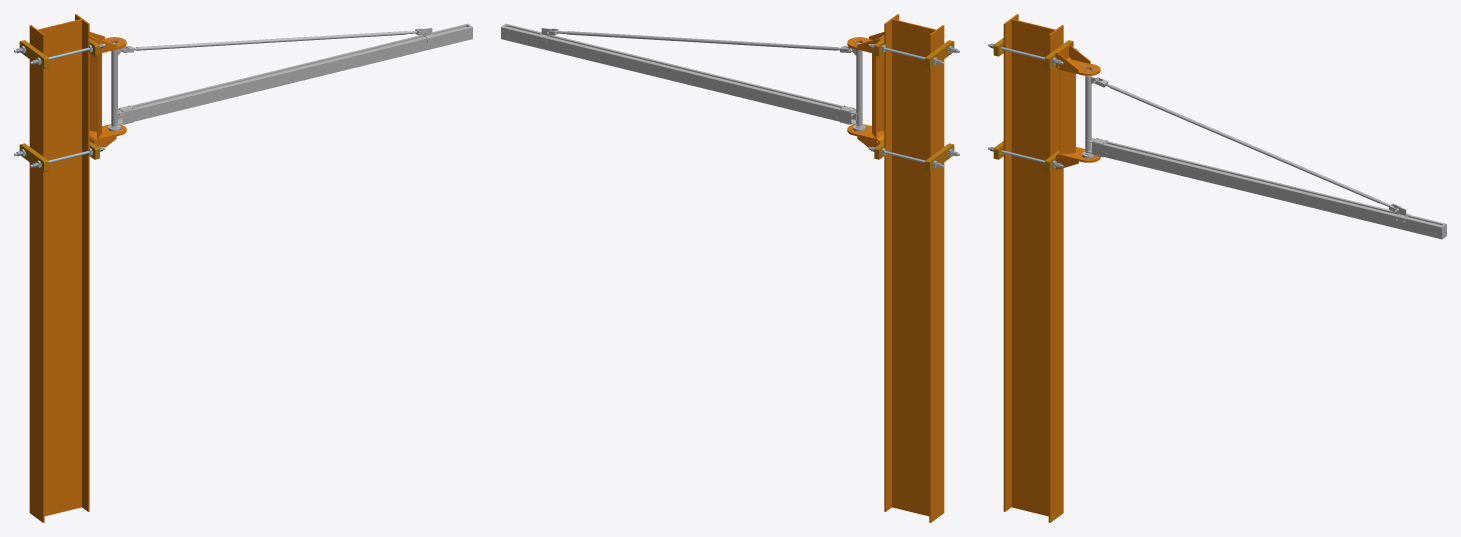
The model's file is aardwolf_all_part_WALL BRACED JIB CRANE 3M 125KG.fbx.
3 renders of one model, left to right at view 1: azimuth 30°, elevation 25°; view 2: azimuth 150°, elevation 25°; view 3: azimuth 330°, elevation 25°, orthographic.
Visible parts, largest first — view 1: Solid20, Solid39, Solid42, Solid1, Solid35; view 2: Solid20, Solid39, Solid42, Solid1, Solid35; view 3: Solid20 (×2), Solid39, Solid1, Solid42, Solid35.
Part boxes in pixels (x1,y1,x2,y2): Solid20: (29,14,89,522); Solid39: (118,23,472,124); Solid42: (136,31,407,50); Solid1: (89,53,101,138); Solid35: (111,49,117,126); Solid20: (884,14,944,522); Solid39: (501,23,855,124); Solid42: (567,31,837,50); Solid1: (872,53,884,138); Solid35: (856,49,862,126); Solid20 (×2): (1003,14,1100,522); Solid39: (1092,141,1445,238); Solid1: (1059,70,1075,154); Solid42: (1109,85,1380,203); Solid35: (1085,76,1091,153).
Size of the model in its own units: 3845 by 4000 by 360.
